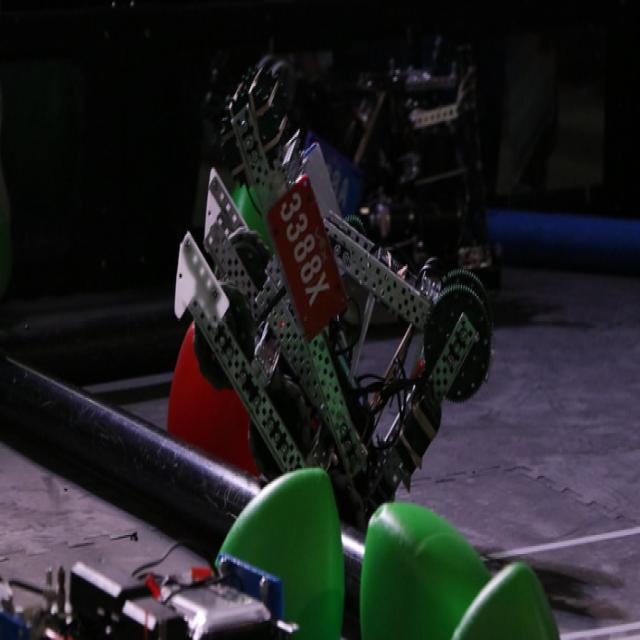License-Plates: (268, 174, 347, 342)
